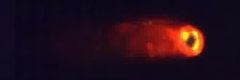keyhole: (183, 34, 199, 49)
